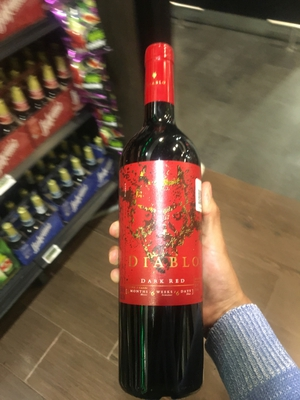diablo dark red: (113, 46, 222, 389)
